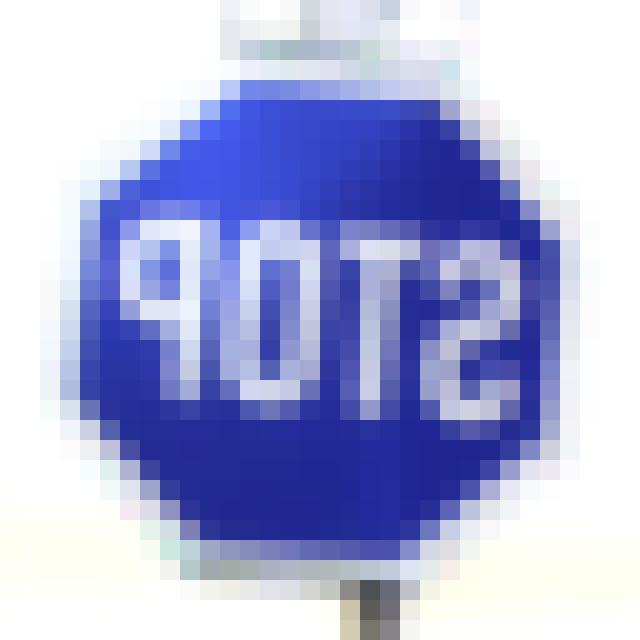STOP: (70, 100, 542, 578)
